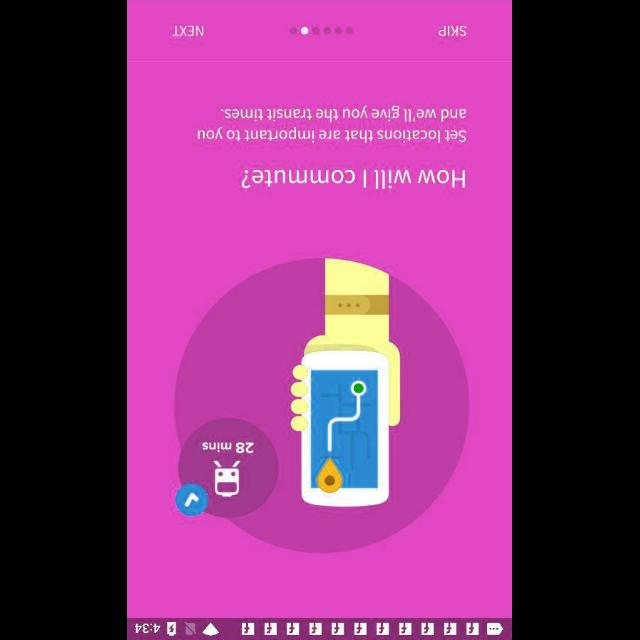image: (175, 258, 471, 554)
pageindicator: (290, 26, 354, 36)
text: (198, 106, 468, 144), (241, 168, 467, 190), (172, 24, 205, 36), (438, 25, 468, 37)
uppertaskbar: (128, 617, 512, 639)
